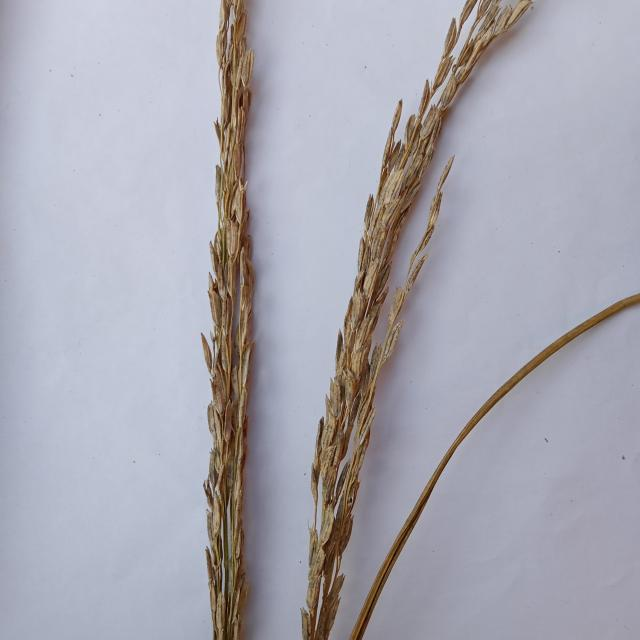Neck_Blast: (308, 0, 544, 636), (201, 0, 254, 640)
